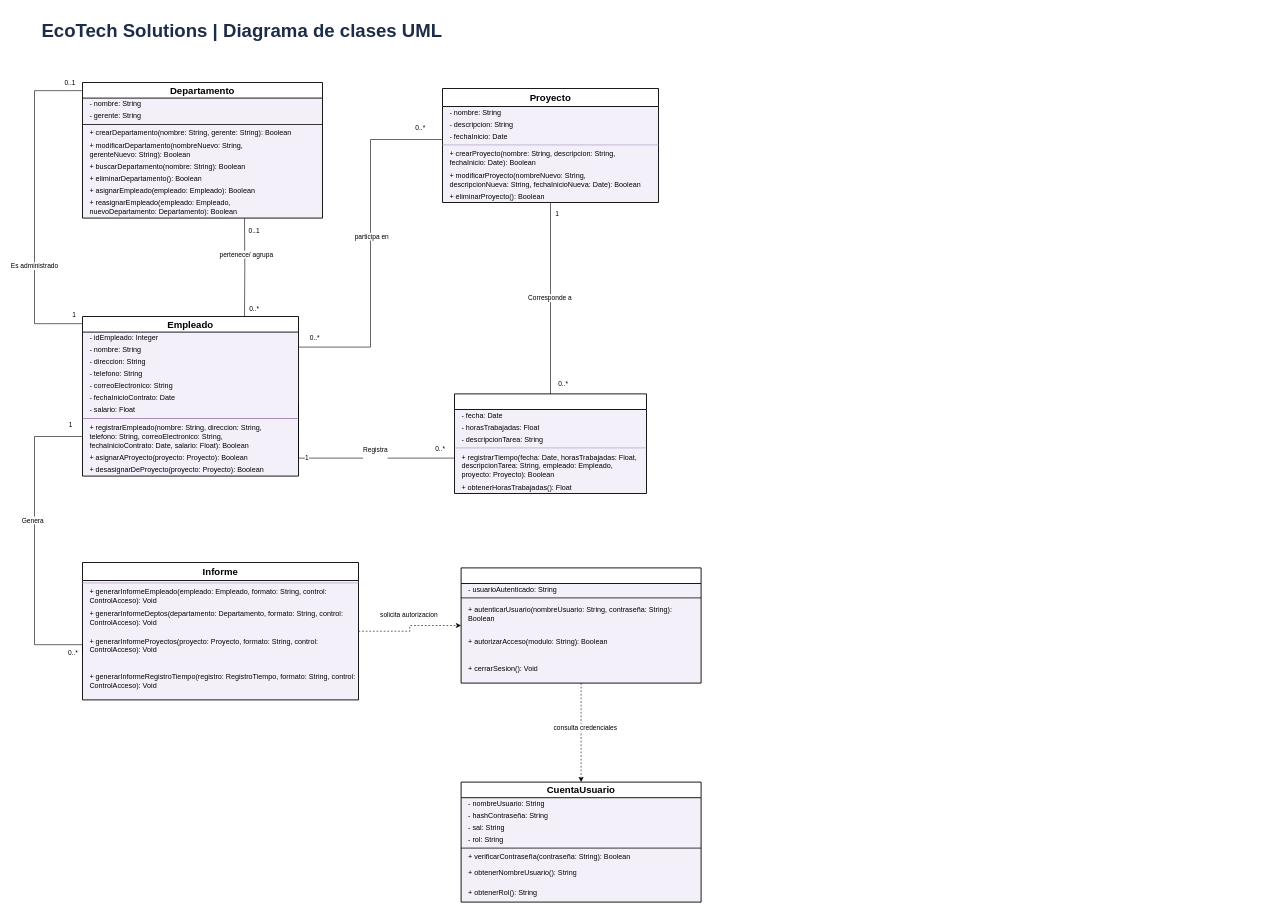
The diagram is 1280 pixels wide and 913 high, and some of its shapes have lost their labels. The box of each missing label's shape, as (x1, y1, x2, y2) in pixels:
ControlAcceso: (460, 567, 701, 683)
RegistroTiempo: (454, 393, 647, 494)
